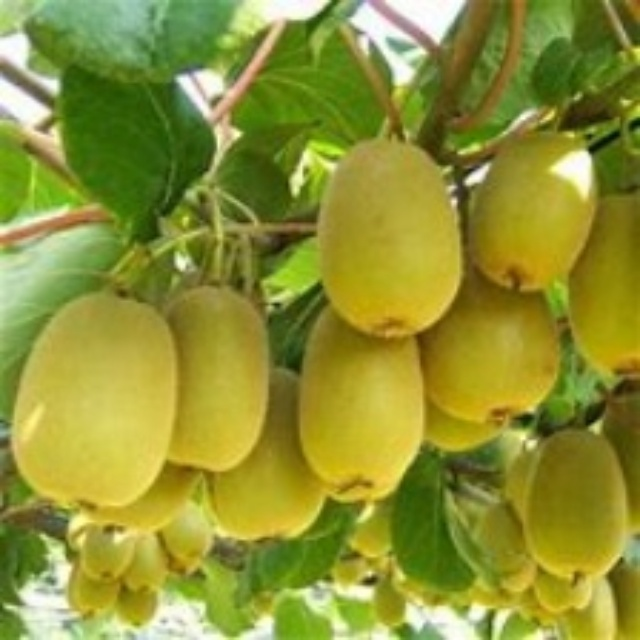kiwi: (16, 286, 184, 518), (296, 305, 428, 511), (322, 142, 460, 334), (422, 272, 568, 425), (154, 280, 267, 471), (58, 496, 210, 628), (221, 366, 330, 546), (472, 135, 589, 286), (559, 192, 639, 379), (515, 438, 621, 577)
